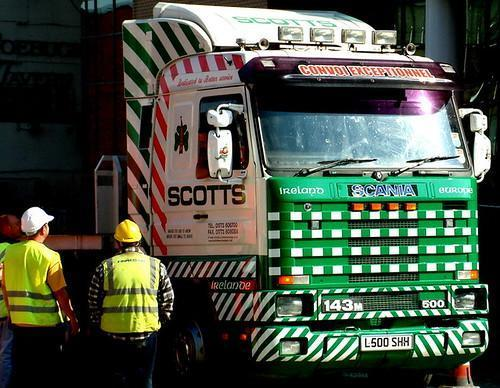vest: (1, 239, 63, 325), (98, 253, 162, 335), (0, 242, 14, 321)
